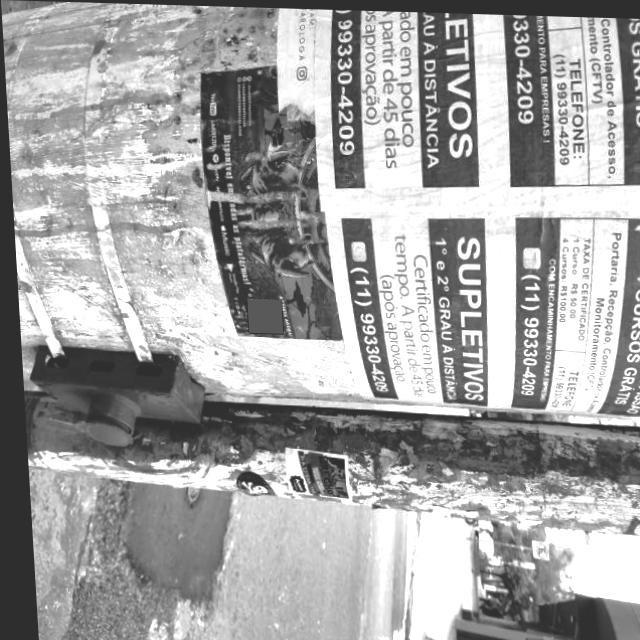qr_code: (243, 297, 278, 332)
